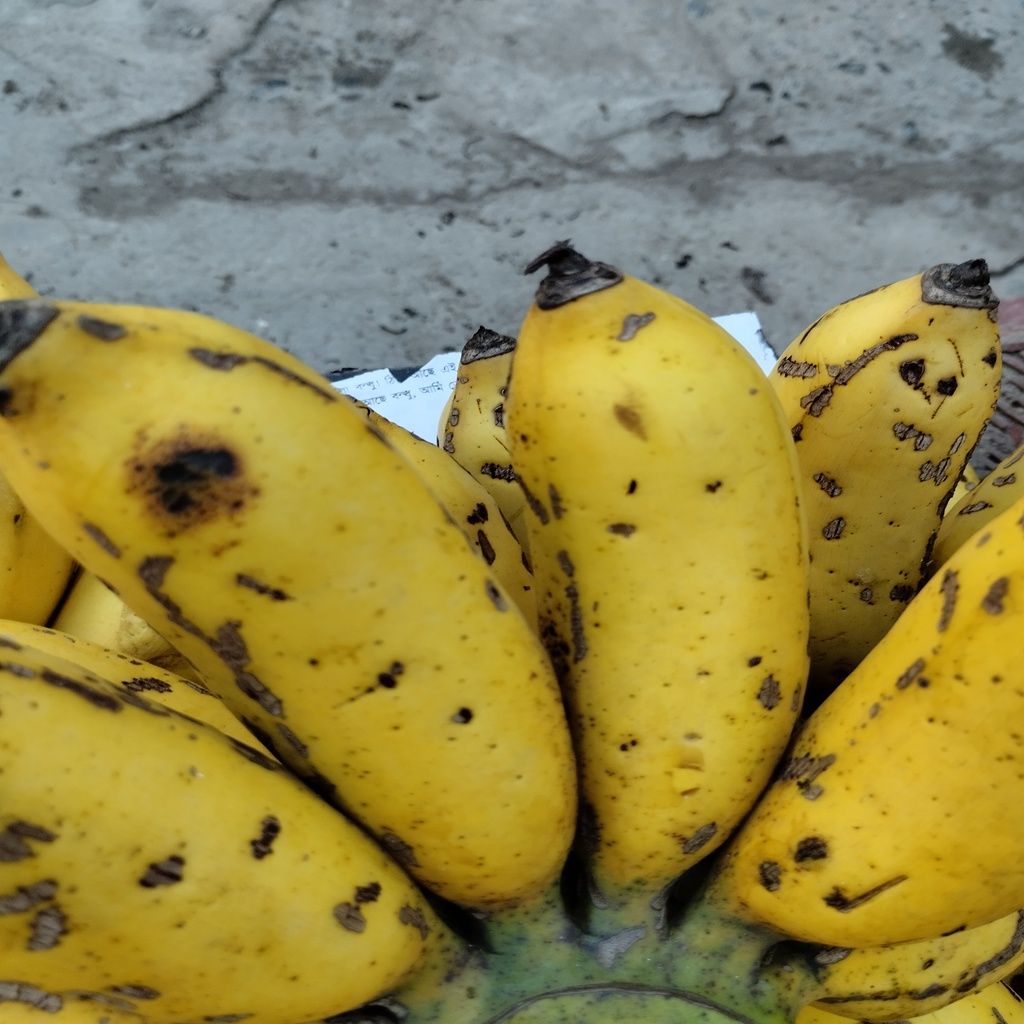unhealthy: (2, 300, 577, 908), (509, 263, 812, 909)
